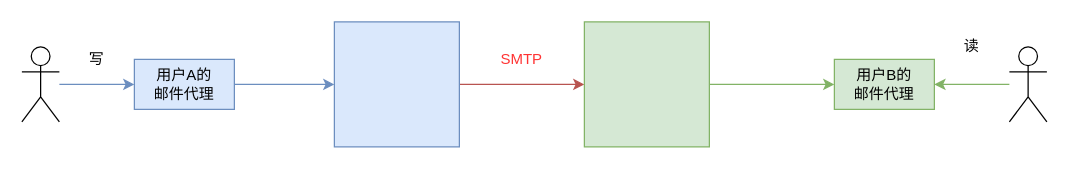
This 1069x169 diagram has some shape labels left out. The centre of each missing label's shape, as x and y in pixels:
用户A的 邮件服务器: (396,84)
用户B的 邮件服务器: (646,84)
